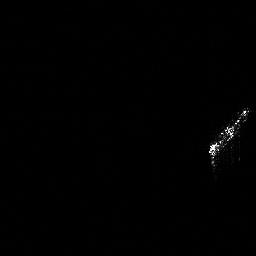ship: (205, 101, 254, 172)
